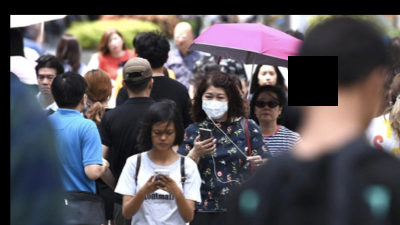with_mask: (200, 90, 229, 120)
without_mask: (254, 96, 280, 122), (151, 125, 175, 151), (36, 71, 56, 95), (258, 68, 279, 86), (107, 35, 123, 54)
